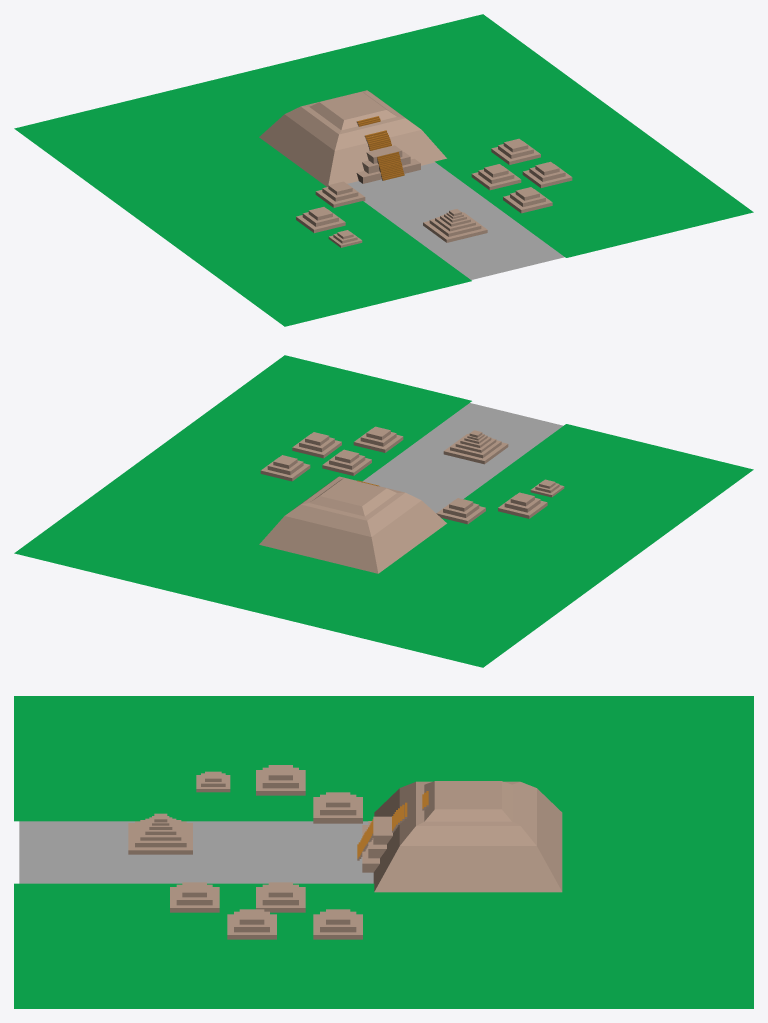
File: Mayan Pyramid from Autodesk Maya.fbx
3 renders of one model, top to bottom at view 1: azimuth 30°, elevation 25°; view 2: azimuth 150°, elevation 25°; view 3: azimuth 270°, elevation 25°, orthographic. The views are drawn at different scales.
Parts seen in each view (by area): view 1: pPlane1, Moon_Pyramid, pPlane2, step_pyramid, side_pyramid1, side_pyramid4, side_pyramid, side_pyramid3, side_pyramid5, side_pyramid2; view 2: pPlane1, Moon_Pyramid, pPlane2, step_pyramid, side_pyramid2, side_pyramid5, side_pyramid4, side_pyramid3, side_pyramid, side_pyramid1; view 3: pPlane1, Moon_Pyramid, pPlane2, step_pyramid, side_pyramid1, side_pyramid, side_pyramid2, side_pyramid4, side_pyramid5, side_pyramid3, mini_pyramid.
Part boxes in pixels (x1,y1,x2,y2): pPlane1: [14, 14, 753, 326]; Moon_Pyramid: [259, 90, 446, 186]; pPlane2: [347, 162, 564, 279]; step_pyramid: [423, 209, 487, 242]; side_pyramid1: [315, 181, 365, 207]; side_pyramid4: [522, 161, 572, 187]; side_pyramid: [296, 207, 345, 233]; side_pyramid3: [471, 164, 521, 190]; side_pyramid5: [503, 187, 552, 213]; side_pyramid2: [491, 138, 540, 164]; pPlane1: [14, 355, 753, 667]; Moon_Pyramid: [259, 476, 446, 573]; pPlane2: [362, 403, 563, 513]; step_pyramid: [443, 430, 508, 464]; side_pyramid2: [260, 455, 310, 481]; side_pyramid5: [353, 426, 403, 452]; side_pyramid4: [292, 432, 341, 458]; side_pyramid3: [322, 449, 371, 475]; side_pyramid: [498, 492, 547, 518]; side_pyramid1: [436, 498, 485, 524]; pPlane1: [14, 696, 753, 1008]; Moon_Pyramid: [357, 781, 562, 892]; pPlane2: [19, 821, 373, 883]; step_pyramid: [128, 813, 192, 854]; side_pyramid1: [313, 792, 362, 823]; side_pyramid: [256, 765, 305, 795]; side_pyramid2: [313, 909, 362, 939]; side_pyramid4: [227, 909, 276, 939]; side_pyramid5: [170, 882, 219, 912]; side_pyramid3: [256, 882, 305, 912]; mini_pyramid: [196, 771, 230, 792].
Bounding box in the file's own units: 315 × 30.39 × 315.
